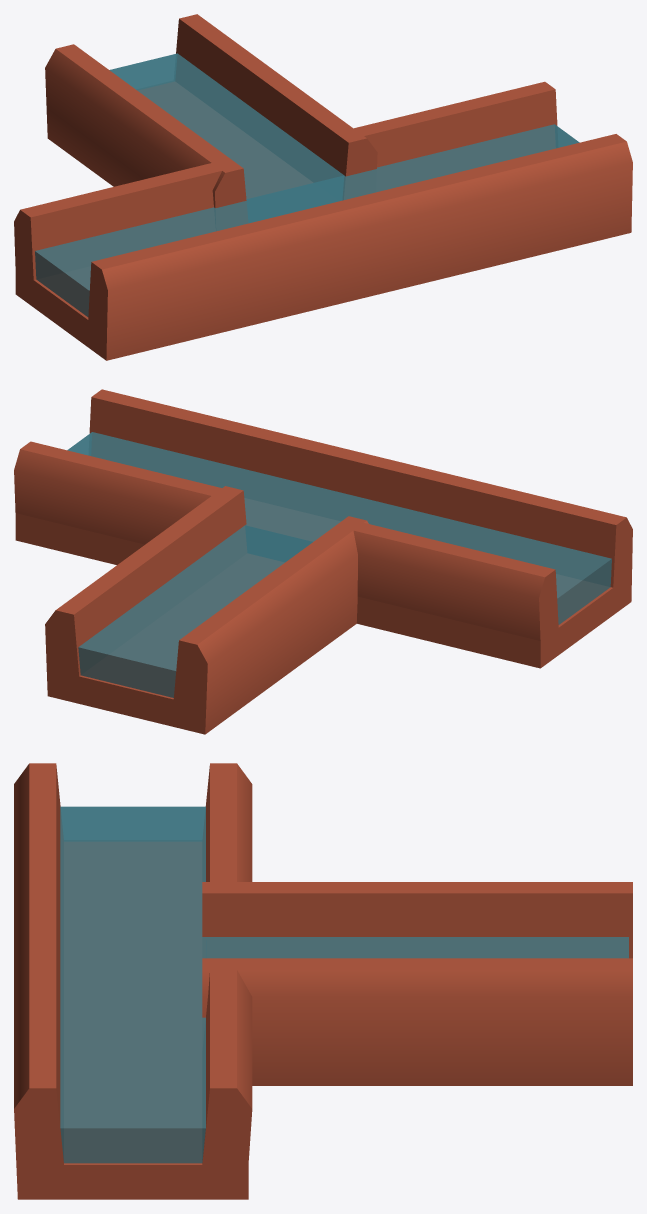
The model's file is deco_irrigation_tee.fbx.
The picture shows the model from 3 angles, top to bottom: view 1: azimuth 30°, elevation 25°; view 2: azimuth 150°, elevation 25°; view 3: azimuth 270°, elevation 25°; orthographic projection. The views are drawn at different scales.
Parts seen in each view (by area): view 1: Irrigation_Tee_Trough, Irrigation_Tee_Water; view 2: Irrigation_Tee_Trough, Irrigation_Tee_Water; view 3: Irrigation_Tee_Trough, Irrigation_Tee_Water.
Part boxes in pixels (x1=…): Irrigation_Tee_Trough: x1=14, y1=14, x2=632, y2=360; Irrigation_Tee_Water: x1=35, y1=53, x2=579, y2=316; Irrigation_Tee_Trough: x1=14, y1=389, x2=632, y2=734; Irrigation_Tee_Water: x1=67, y1=432, x2=611, y2=697; Irrigation_Tee_Trough: x1=14, y1=763, x2=632, y2=1199; Irrigation_Tee_Water: x1=60, y1=806, x2=628, y2=1163.
Bounding box in the file's own units: 200 × 32 × 161.
